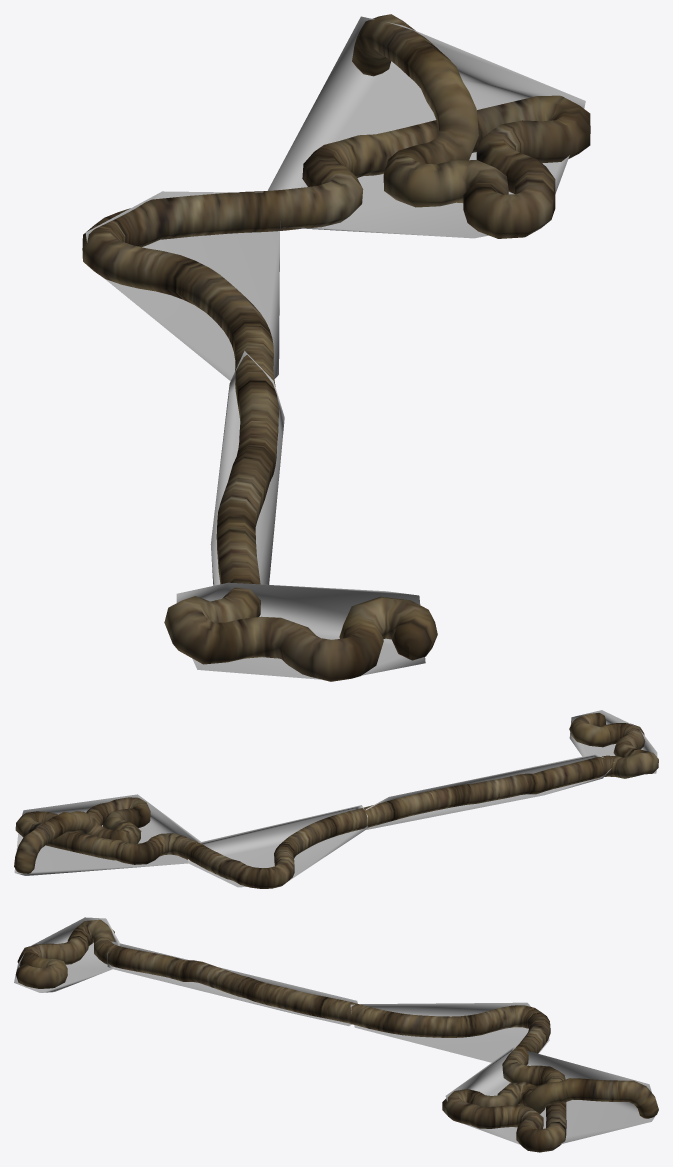
The model's file is SM_Rope_02.gltf.
3 renders of one model, top to bottom at view 1: azimuth 30°, elevation 25°; view 2: azimuth 150°, elevation 25°; view 3: azimuth 270°, elevation 25°, orthographic. The views are drawn at different scales.
Visible parts, largest first — view 1: SM_Rope_02_LOD0, SM_Rope_02_ConvexHulls; view 2: SM_Rope_02_LOD0, SM_Rope_02_ConvexHulls; view 3: SM_Rope_02_LOD0, SM_Rope_02_ConvexHulls.
Part boxes in pixels (bbox=[...]): SM_Rope_02_LOD0: bbox=[82, 14, 590, 681]; SM_Rope_02_ConvexHulls: bbox=[85, 16, 585, 679]; SM_Rope_02_LOD0: bbox=[14, 713, 658, 888]; SM_Rope_02_ConvexHulls: bbox=[14, 710, 657, 887]; SM_Rope_02_LOD0: bbox=[16, 919, 658, 1152]; SM_Rope_02_ConvexHulls: bbox=[14, 917, 655, 1144].
Size of what is drawn, in the model's own units: 0.5272 by 0.0588 by 0.6637.
